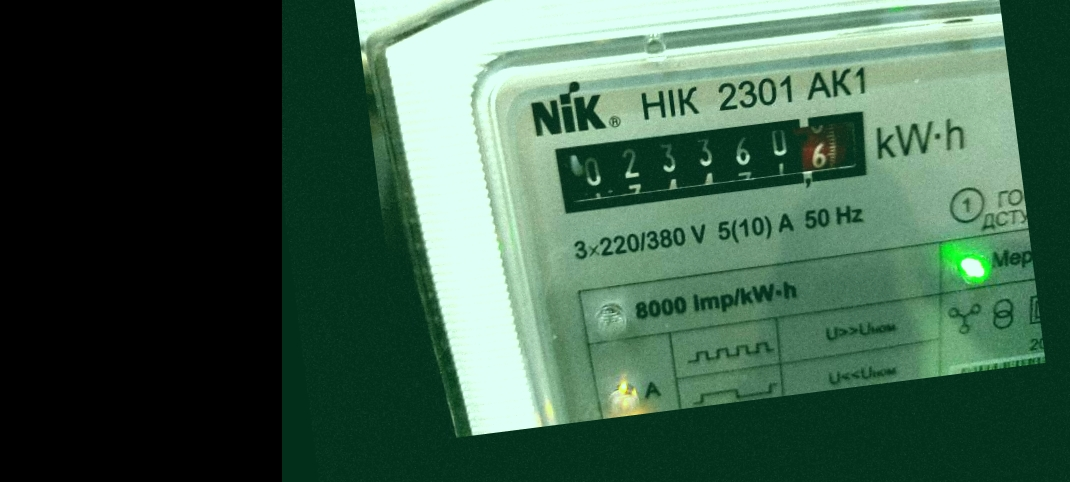0: (580, 152, 605, 188), (769, 125, 790, 158)
2: (617, 144, 644, 181)
3: (655, 140, 680, 174), (693, 134, 716, 167)
6: (729, 133, 753, 167), (806, 138, 830, 169)
screen: (535, 90, 886, 231)
